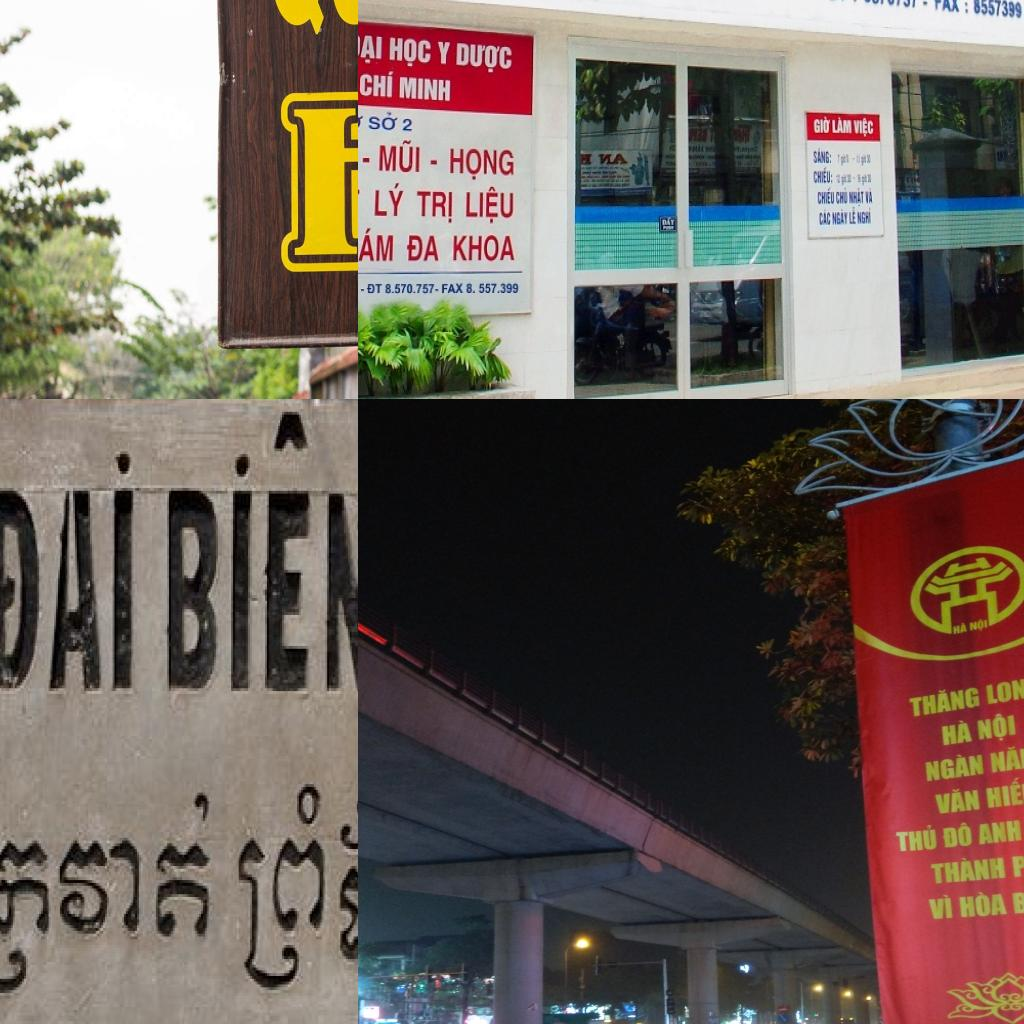text: (157, 400, 358, 705), (0, 442, 141, 702), (903, 682, 984, 720), (451, 38, 519, 80), (925, 854, 1008, 886), (448, 147, 516, 182), (464, 186, 516, 228), (450, 232, 518, 264), (921, 750, 986, 782), (386, 33, 434, 74), (376, 138, 422, 176), (974, 710, 1020, 746), (395, 76, 452, 105), (414, 187, 456, 226), (358, 222, 395, 266), (956, 889, 1010, 919), (930, 786, 983, 816), (892, 822, 940, 854), (370, 181, 408, 221), (982, 774, 1024, 810), (358, 64, 397, 102), (976, 817, 1024, 847), (983, 673, 1024, 706), (406, 230, 443, 265), (986, 741, 1024, 774), (970, 0, 1024, 22), (938, 717, 976, 747), (358, 28, 385, 69), (381, 279, 436, 299), (463, 280, 522, 298), (941, 820, 974, 851), (366, 110, 402, 135), (925, 893, 956, 921), (432, 34, 454, 71), (860, 0, 920, 10), (932, 0, 963, 19), (1009, 843, 1024, 881), (1008, 885, 1024, 916), (853, 117, 875, 139), (440, 278, 465, 297), (813, 164, 834, 186), (831, 115, 853, 135), (812, 146, 833, 166), (816, 186, 836, 207), (848, 187, 866, 209), (812, 115, 831, 135), (831, 208, 850, 228), (364, 280, 384, 298), (968, 617, 989, 634), (834, 186, 850, 206), (950, 620, 969, 636), (401, 114, 415, 134), (818, 208, 832, 228), (864, 186, 875, 206), (848, 205, 858, 226), (660, 216, 676, 227)
